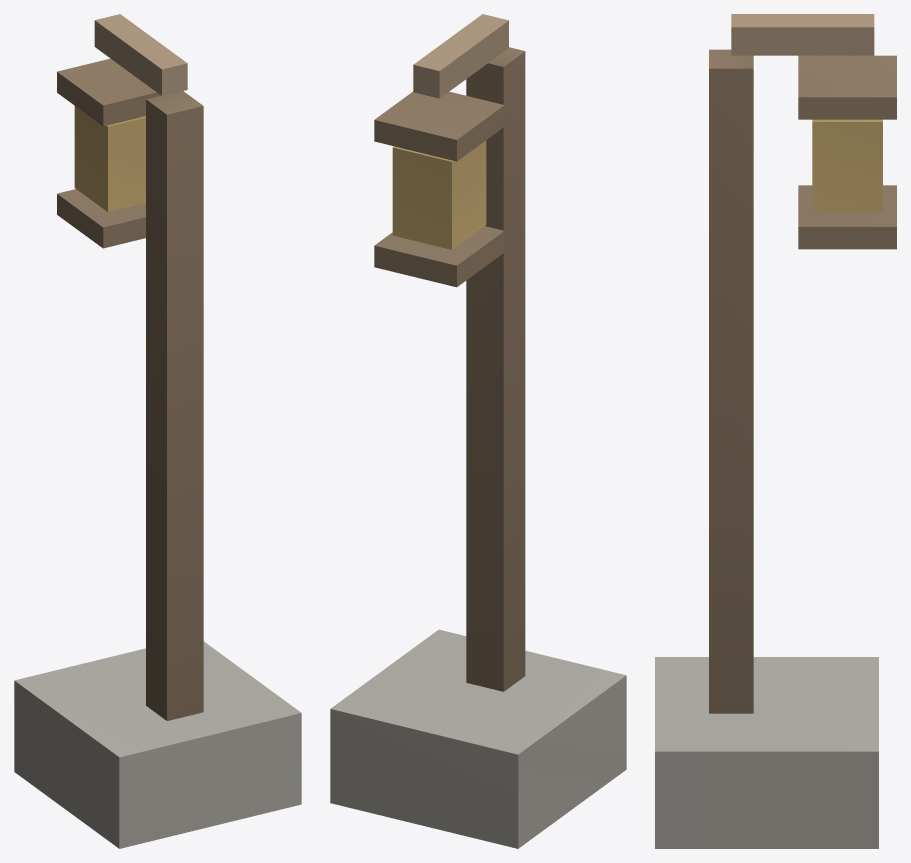
File: work_lamp_low.glb
3 views of the same model, side by side, from view 1: azimuth 30°, elevation 25°; view 2: azimuth 150°, elevation 25°; view 3: azimuth 270°, elevation 25° (orthographic). The views are drawn at different scales.
Parts seen in each view (by area): view 1: geometry_work_lamp; view 2: geometry_work_lamp; view 3: geometry_work_lamp.
Boxes of the visible parts, x1=… form: geometry_work_lamp: x1=14, y1=14, x2=301, y2=848; geometry_work_lamp: x1=330, y1=14, x2=626, y2=848; geometry_work_lamp: x1=655, y1=14, x2=896, y2=848.
Bounding box in the file's own units: 0.5 × 1.92 × 0.54.
